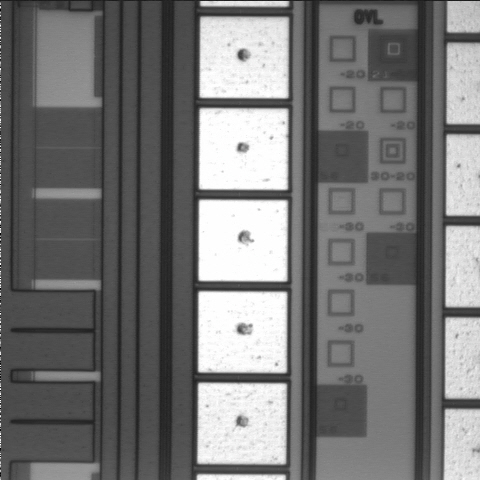pad: (199, 108, 288, 190), (198, 291, 287, 373), (197, 383, 287, 464), (200, 17, 289, 98), (199, 200, 288, 281)
